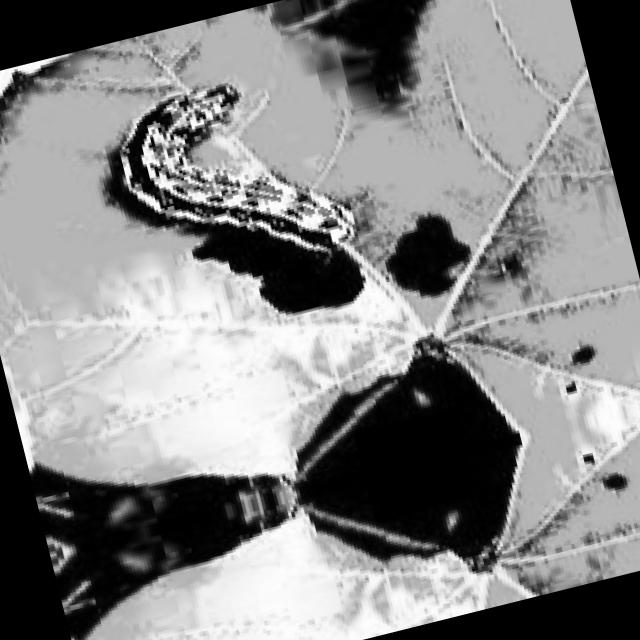Armyworm: (56, 21, 417, 322)
Armyworm_damage: (349, 185, 502, 325)
